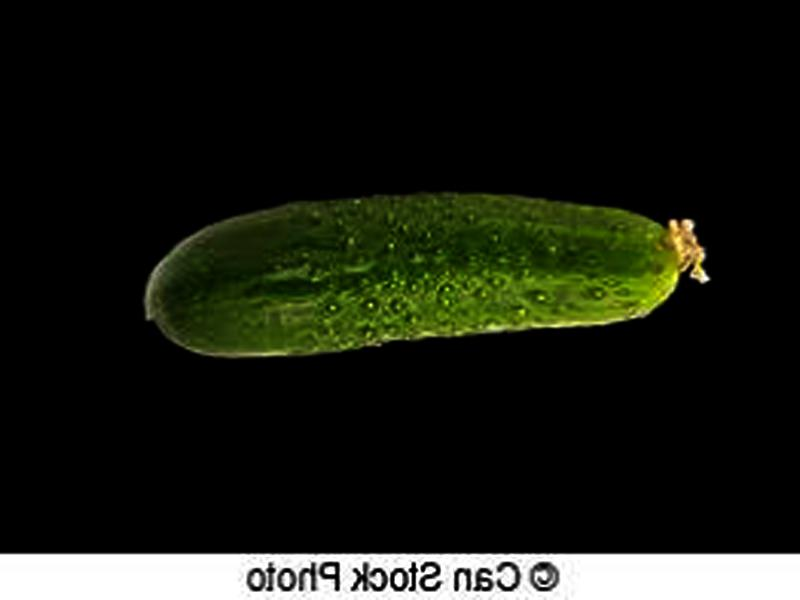Cucumber: (143, 191, 710, 356)
